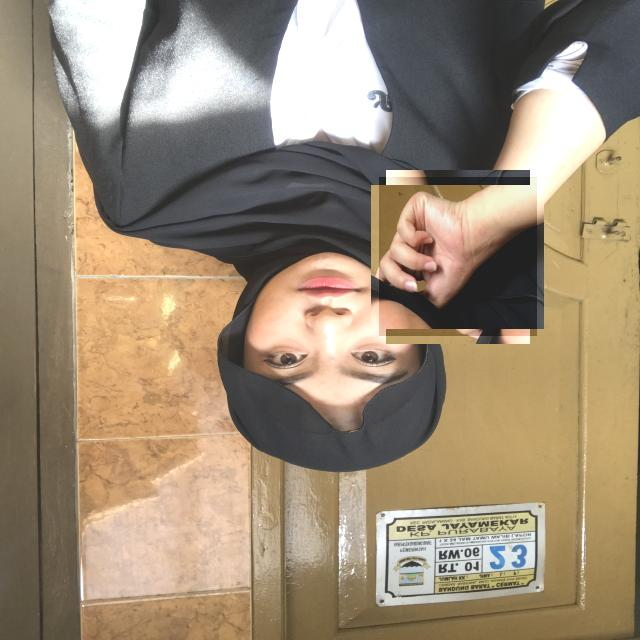ibu: (379, 177, 537, 336)
